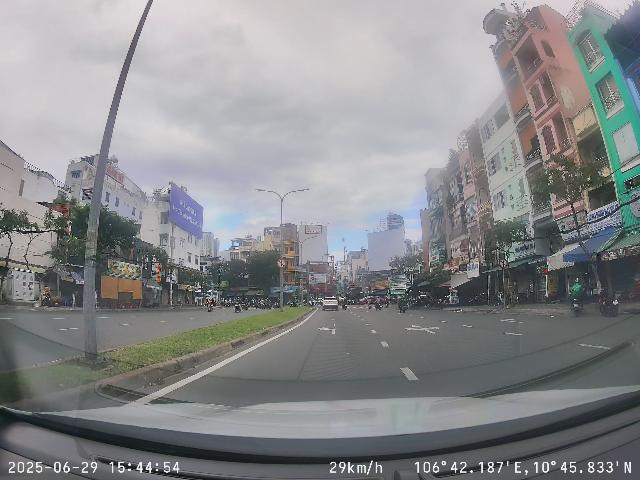136-cam-di-thang: (276, 258, 286, 268), (499, 258, 508, 269)
